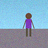person: (23, 13, 34, 36)
